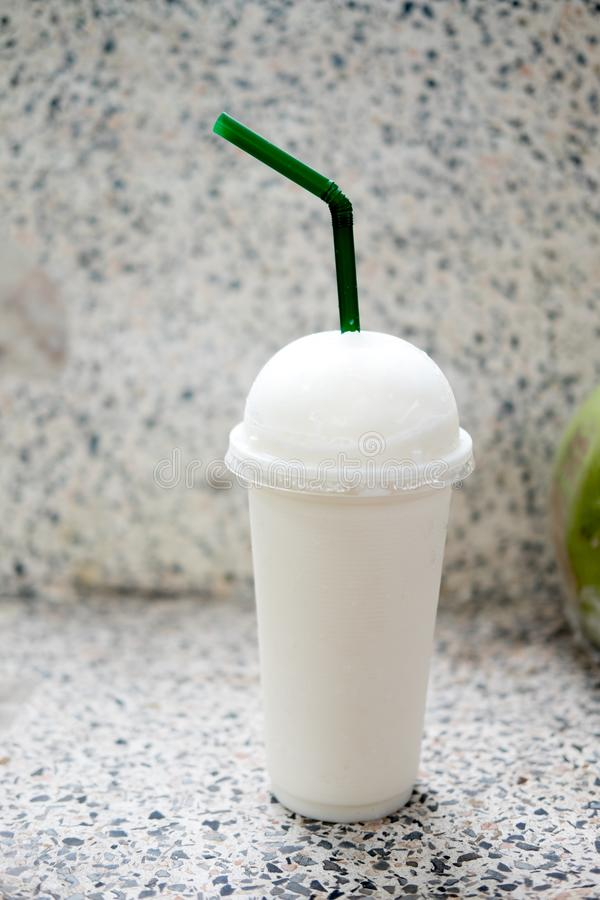plastic_glass: (215, 322, 480, 830)
